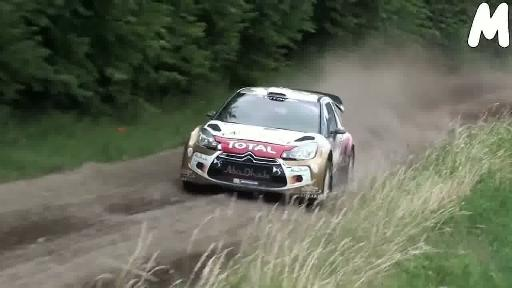CAR: (174, 64, 374, 230)
